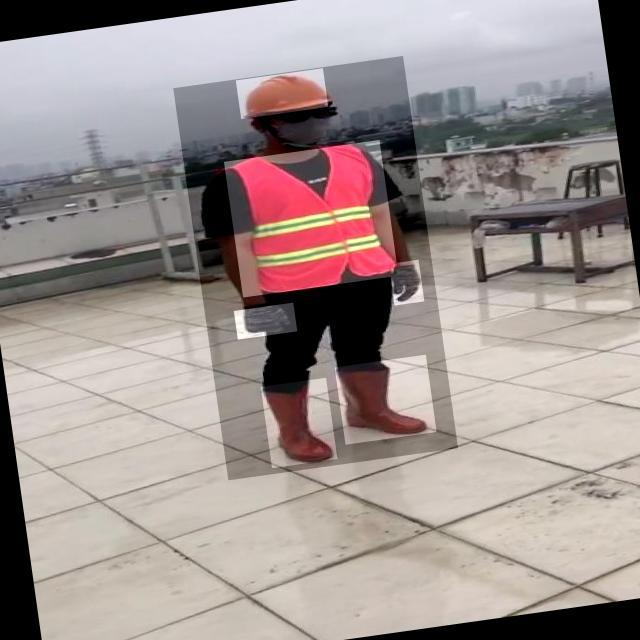Gloves: (234, 303, 297, 340), (389, 260, 425, 306)
Helmet: (236, 68, 329, 119)
Human: (173, 56, 458, 481)
Safety Boot: (335, 355, 437, 445), (261, 378, 338, 468)
Safety Vest: (224, 140, 399, 298)
